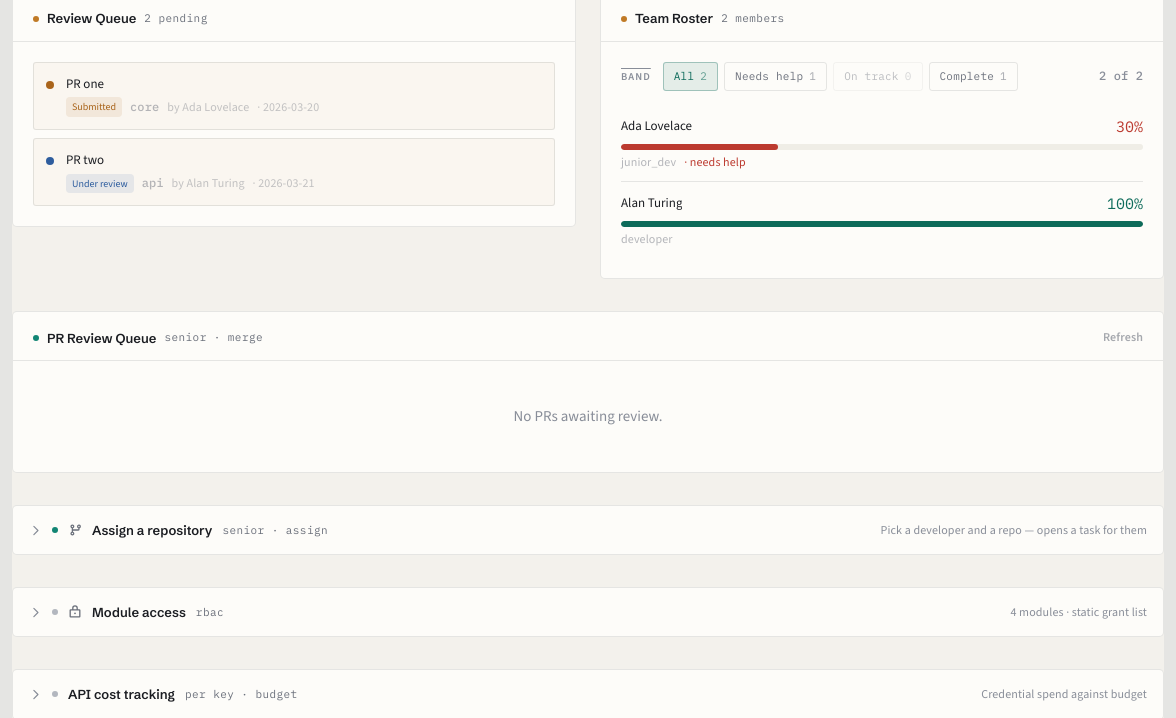
Test case: Senior space — reviews first, and no duplicated roster › seals the assign-repository form instead of parking it above the fold
(page scrolled)
Click the button "Pick a developer and a repo" at (152, 530), box [13,506,1163,554]
(page scrolled)
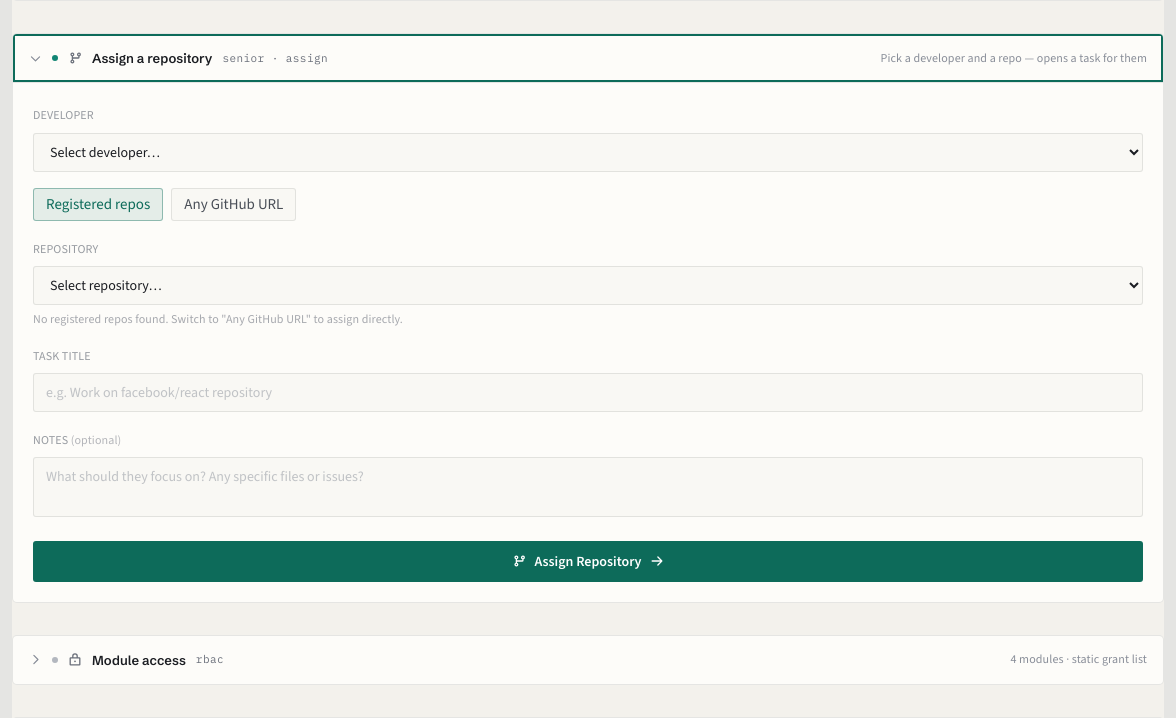
Expected: the dropdown labelled "Developer" is shown, [33,132,1143,172]
Expected: the dropdown labelled "Repository" is shown, [33,266,1143,305]
Expected: the field labelled "Task title" is shown, [33,373,1143,412]
